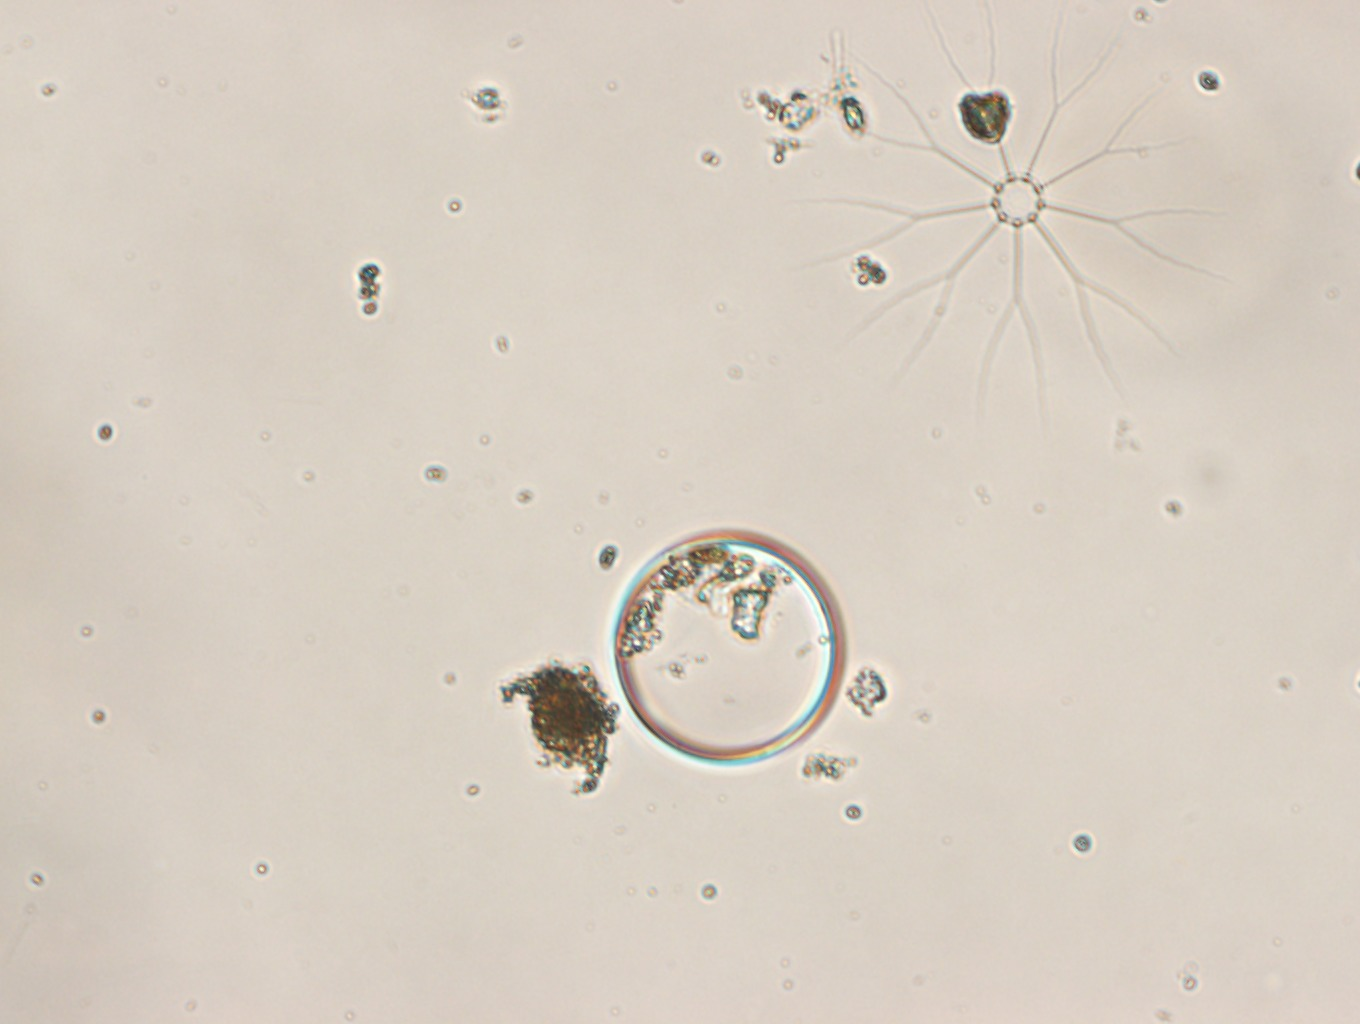bacteriastrum: (786, 1, 1232, 429)
coscinodiscus: (607, 529, 846, 762)
